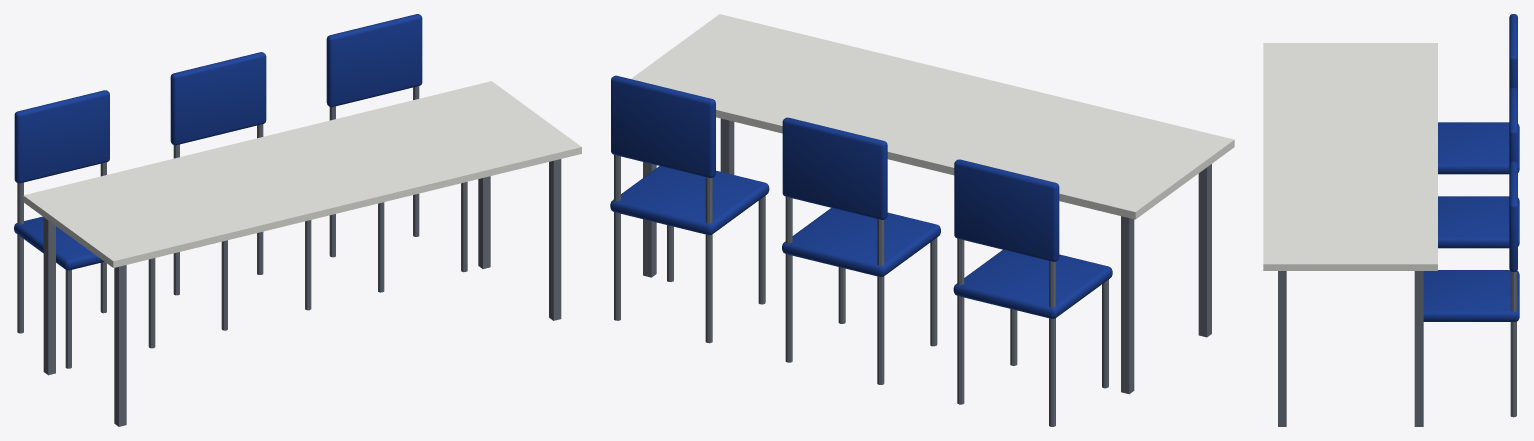
File: school.desk.set_group.glb
The picture shows the model from 3 angles, left to right: view 1: azimuth 30°, elevation 25°; view 2: azimuth 150°, elevation 25°; view 3: azimuth 270°, elevation 25°; orthographic projection. The views are drawn at different scales.
Visible parts, largest first — view 1: table__laminate_white, chairs__plastic_blue, table__steel_painted, chairs__steel_painted; view 2: table__laminate_white, chairs__plastic_blue, chairs__steel_painted, table__steel_painted; view 3: table__laminate_white, chairs__plastic_blue, table__steel_painted, chairs__steel_painted.
Boxes of the visible parts, <box> form: table__laminate_white: <box>23,81,581,267</box>; chairs__plastic_blue: <box>14,14,422,270</box>; table__steel_painted: <box>43,159,561,426</box>; chairs__steel_painted: <box>17,86,467,368</box>; table__laminate_white: <box>631,14,1234,219</box>; chairs__plastic_blue: <box>610,75,1112,318</box>; chairs__steel_painted: <box>614,155,1108,426</box>; table__steel_painted: <box>643,118,1211,394</box>; table__laminate_white: <box>1263,43,1437,270</box>; chairs__plastic_blue: <box>1423,14,1519,321</box>; table__steel_painted: <box>1278,271,1423,426</box>; chairs__steel_painted: <box>1510,271,1516,417</box>.
Bounding box in the file's own units: 1.8 × 0.81 × 0.88.
